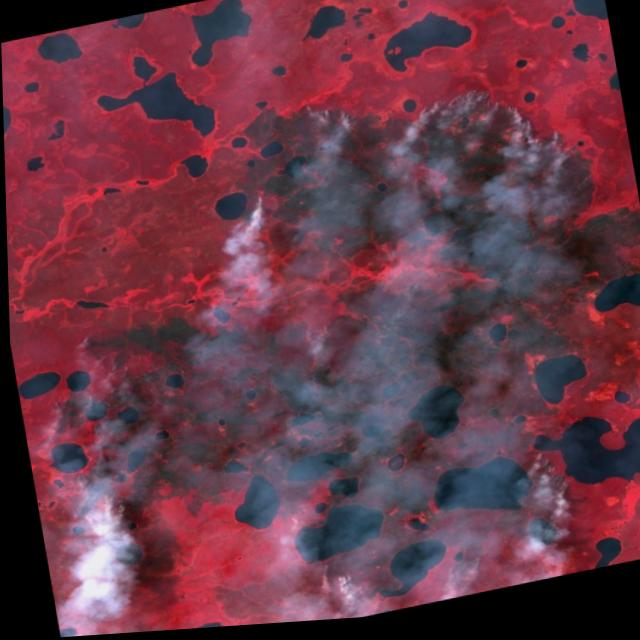fire: (197, 55, 577, 243), (50, 318, 148, 426), (55, 473, 143, 564), (501, 445, 587, 536), (287, 555, 383, 626)
